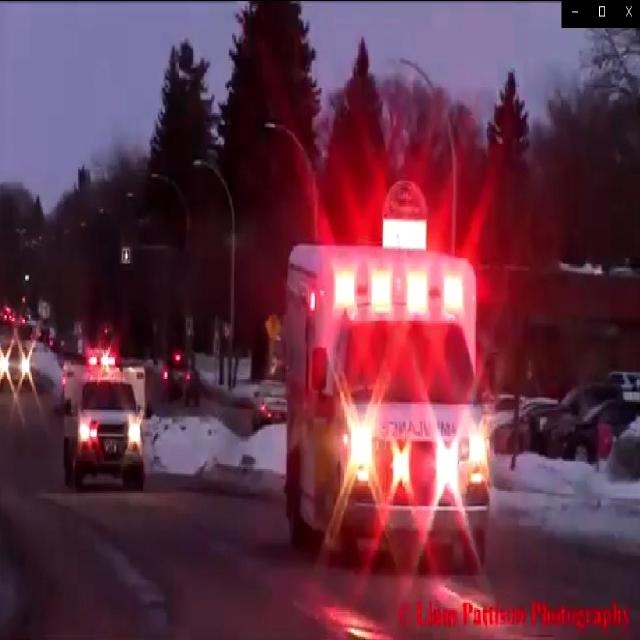emergency: (279, 212, 499, 587), (56, 338, 152, 496)
